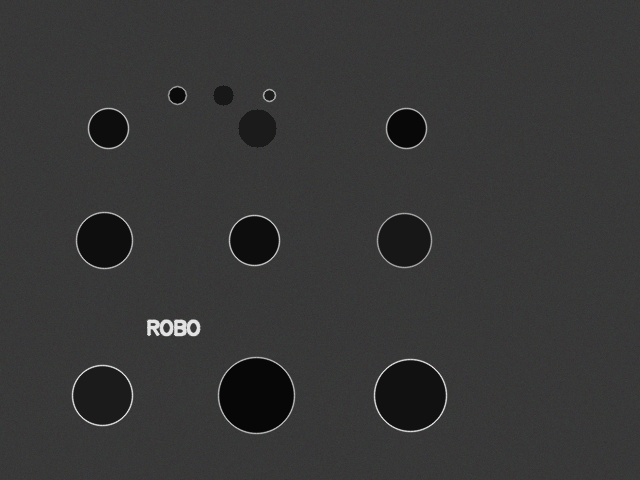hole: (218, 357, 294, 433), (374, 359, 446, 431), (72, 365, 132, 425), (76, 212, 132, 268), (377, 213, 431, 267), (229, 215, 279, 265), (88, 108, 128, 148), (386, 108, 426, 148), (238, 109, 276, 147), (213, 85, 233, 105), (168, 86, 186, 104), (263, 89, 275, 101)
